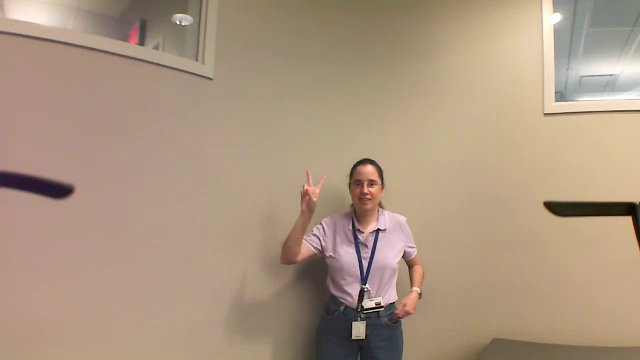peace: (295, 165, 331, 214)
